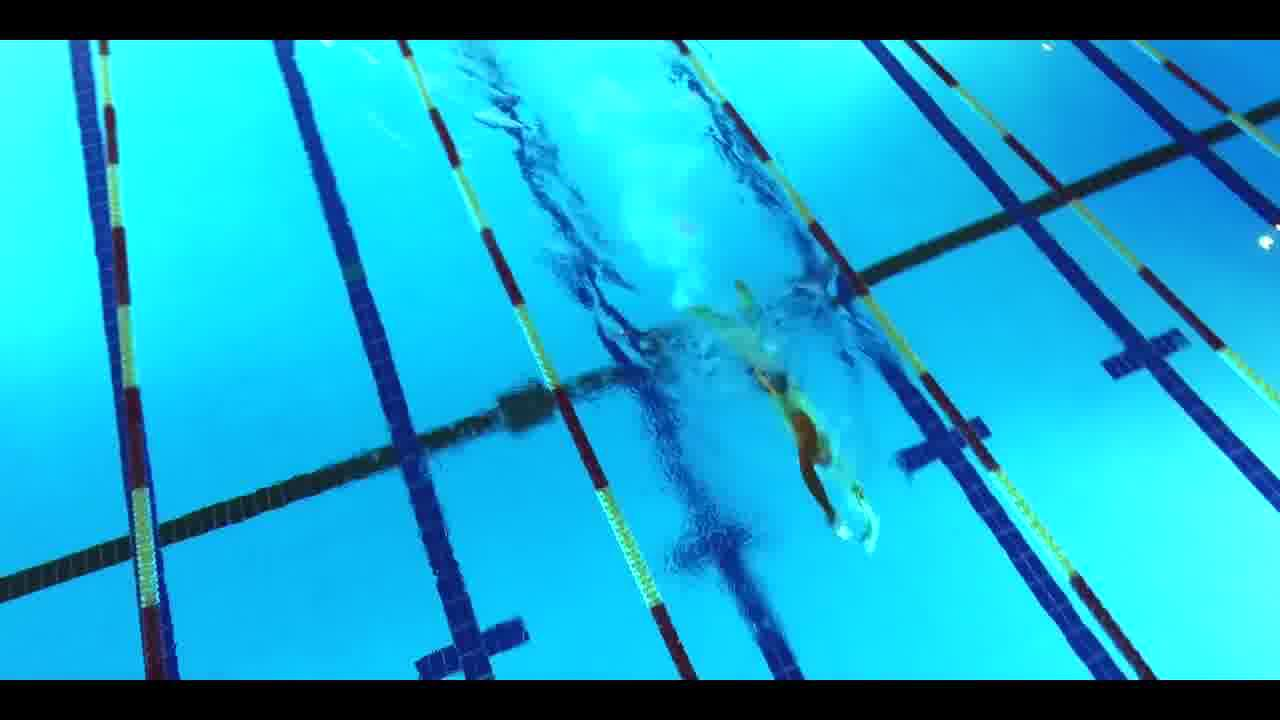human: (677, 285, 887, 553)
